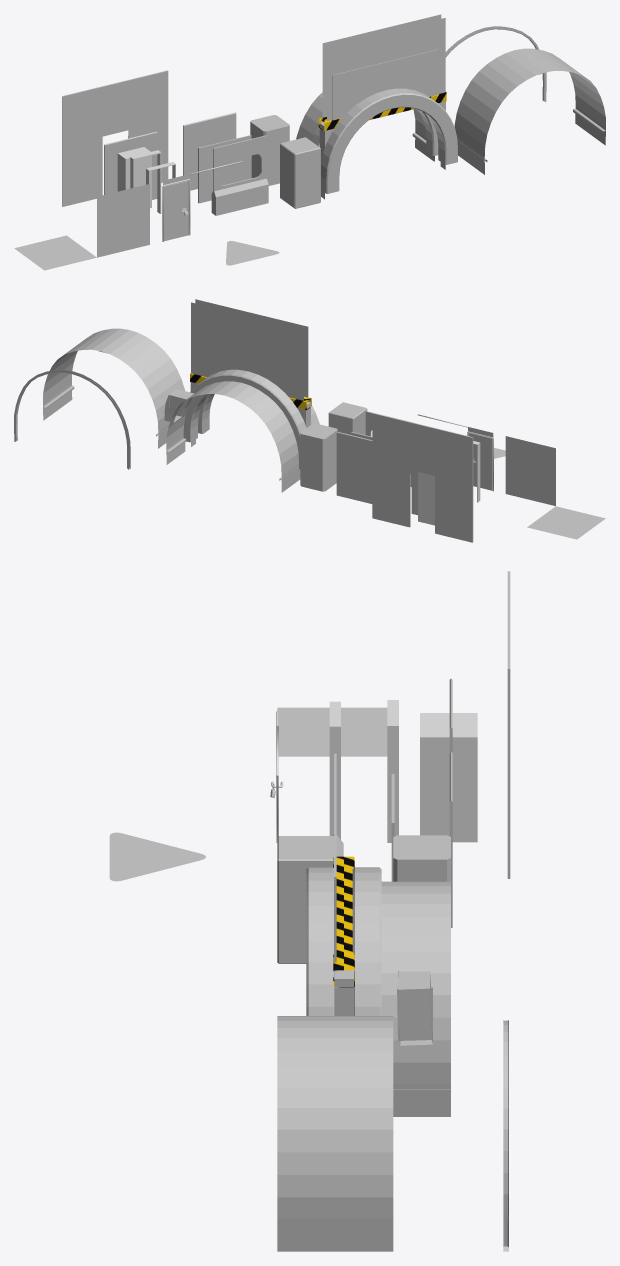
The model's file is BunkerSet.fbx.
The picture shows the model from 3 angles, top to bottom: view 1: azimuth 30°, elevation 25°; view 2: azimuth 150°, elevation 25°; view 3: azimuth 270°, elevation 25°; orthographic projection. The views are drawn at different scales.
Visible parts, largest first — view 1: Bunker_Wall_04_Mesh, Bunker_Arch_02_Mesh, Bunker_Gate_01_Mesh, Bunker_Arch_01_Mesh, Bunker_Wall_02_Mesh, Bunker_Wall_03_Mesh, Bunker_Wall_06_Mesh, Bunker_Pillar_01_Mesh, Bunker_Arch_03_Mesh, Bunker_InteriorWall_01_Mesh, Bunker_Wall_01_Mesh, Bunker_Pillar_02_Mesh (+8 smaller); view 2: Bunker_Wall_04_Mesh, Bunker_Gate_01_Mesh, Bunker_Arch_03_Mesh, Bunker_Arch_02_Mesh, Bunker_Wall_03_Mesh, Bunker_InteriorWall_01_Mesh, Bunker_Pillar_02_Mesh, Bunker_Ground_01_Mesh, Bunker_Pillar_01_Mesh, Bunker_Door_03_Mesh02, Bunker_Arch_04_Mesh, Cube (+1 smaller); view 3: Bunker_Arch_02_Mesh, Bunker_Arch_03_Mesh, Cube, Bunker_Ground_01_Mesh, Bunker_Pillar_01_Mesh, Bunker_Arch_01_Mesh, Sign, Bunker_Pillar_02_Mesh, Bunker_Gate_01_Mesh, Bunker_Door_02_Mesh, Bunker_Door_01_Mesh, Bunker_Arch_04_Mesh (+1 smaller).
Boxes of the visible parts, x1,y1,x2,y2 form: Bunker_Wall_04_Mesh: (62, 70, 168, 206); Bunker_Arch_02_Mesh: (454, 48, 605, 174); Bunker_Gate_01_Mesh: (318, 14, 446, 130); Bunker_Arch_01_Mesh: (321, 88, 457, 193); Bunker_Wall_02_Mesh: (332, 49, 438, 130); Bunker_Wall_03_Mesh: (97, 184, 149, 257); Bunker_Wall_06_Mesh: (211, 135, 268, 215); Bunker_Pillar_01_Mesh: (280, 137, 320, 208); Bunker_Arch_03_Mesh: (296, 92, 445, 199); Bunker_InteriorWall_01_Mesh: (183, 112, 236, 190); Bunker_Wall_01_Mesh: (198, 135, 251, 203); Bunker_Pillar_02_Mesh: (250, 115, 289, 185); Bunker_Wall_04_Mesh: (372, 413, 473, 542); Bunker_Gate_01_Mesh: (190, 299, 311, 410); Bunker_Arch_03_Mesh: (164, 369, 310, 492); Bunker_Arch_02_Mesh: (43, 328, 184, 448); Bunker_Wall_03_Mesh: (505, 436, 555, 505); Bunker_InteriorWall_01_Mesh: (336, 431, 372, 503); Bunker_Pillar_02_Mesh: (300, 423, 337, 491); Bunker_Ground_01_Mesh: (527, 506, 605, 539); Bunker_Pillar_01_Mesh: (328, 402, 367, 434); Bunker_Door_03_Mesh02: (468, 432, 492, 490); Bunker_Arch_04_Mesh: (14, 370, 130, 469); Cube: (418, 472, 434, 525); Bunker_Arch_02_Mesh: (277, 1016, 393, 1251); Bunker_Arch_03_Mesh: (334, 867, 450, 1116); Cube: (420, 713, 477, 842); Bunker_Ground_01_Mesh: (277, 707, 387, 756); Bunker_Pillar_01_Mesh: (277, 836, 333, 963); Bunker_Arch_01_Mesh: (306, 867, 334, 1015); Sign: (109, 832, 205, 881); Bunker_Pillar_02_Mesh: (393, 835, 450, 881); Bunker_Gate_01_Mesh: (333, 856, 354, 987); Bunker_Door_02_Mesh: (387, 700, 398, 842); Bunker_Door_01_Mesh: (329, 701, 340, 839); Bunker_Arch_04_Mesh: (503, 1020, 508, 1251).
Bounding box in the file's own units: 2130 × 552 × 693.
